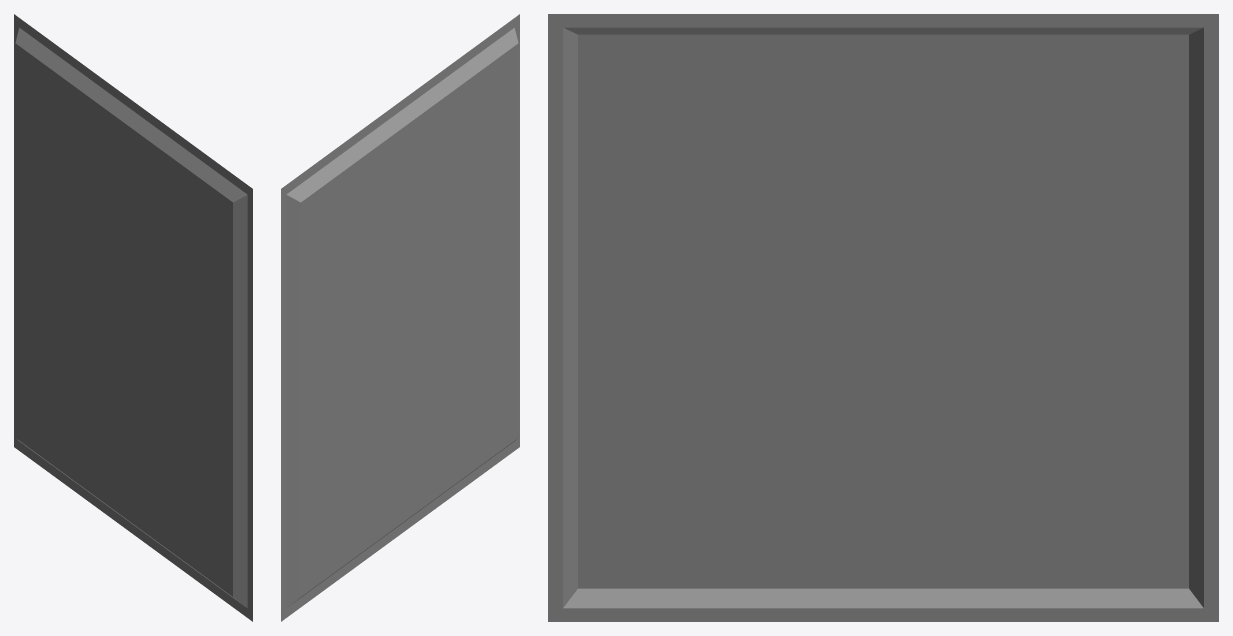
Rendered from Wall_02.FBX.
3 views of the same model, side by side, from view 1: azimuth 30°, elevation 25°; view 2: azimuth 150°, elevation 25°; view 3: azimuth 270°, elevation 25° (orthographic). The views are drawn at different scales.
Visible parts, largest first — view 1: Wall_02_LOD0; view 2: Wall_02_LOD0; view 3: Wall_02_LOD0.
Boxes of the visible parts, x1,y1,x2,y2 form: Wall_02_LOD0: (14, 14, 252, 621); Wall_02_LOD0: (281, 14, 519, 621); Wall_02_LOD0: (548, 14, 1218, 621).
Size of what is drawn, in the model's own units: 4 by 180 by 180.
